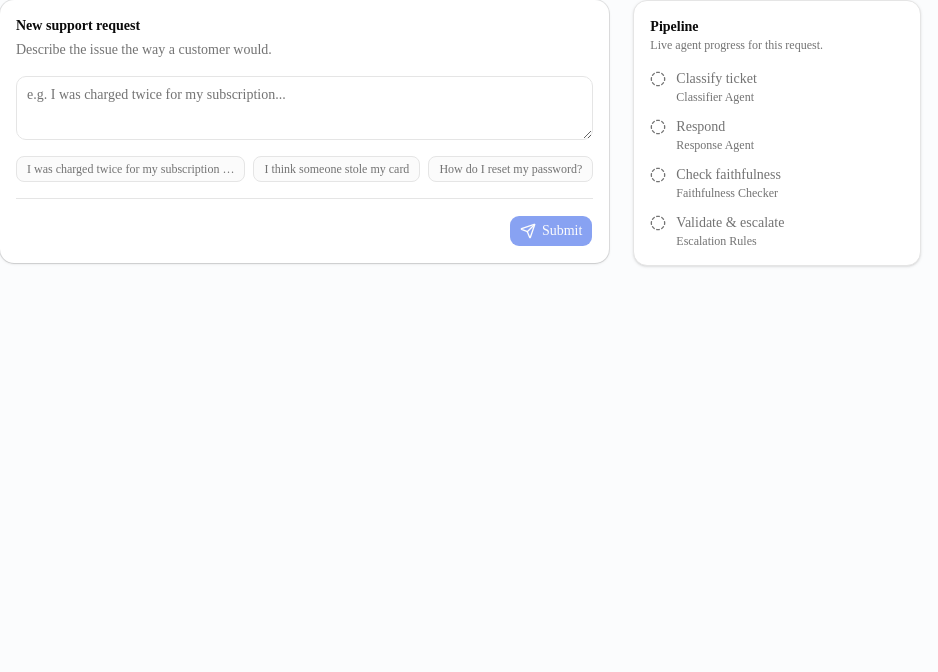
Test: TicketForm › shows unsupported claims when the answer is not faithful
Type "I was charged twice" into the text box named "Describe your issue". click: (305, 108)
box: top-left (16, 76), bottom-right (593, 140)
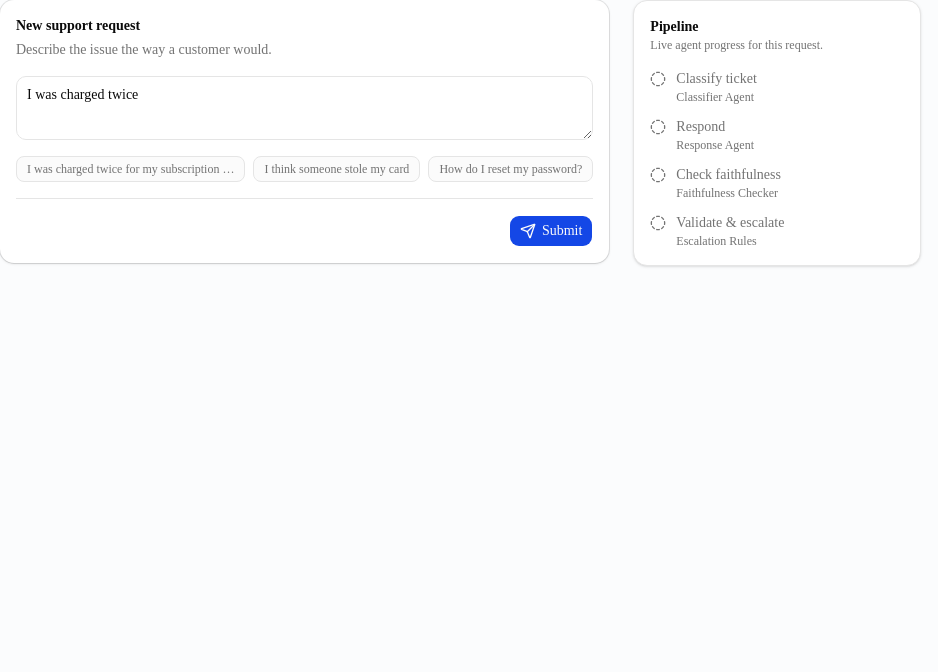
Click the button "Submit". click: (551, 231)
box: top-left (509, 215), bottom-right (593, 247)
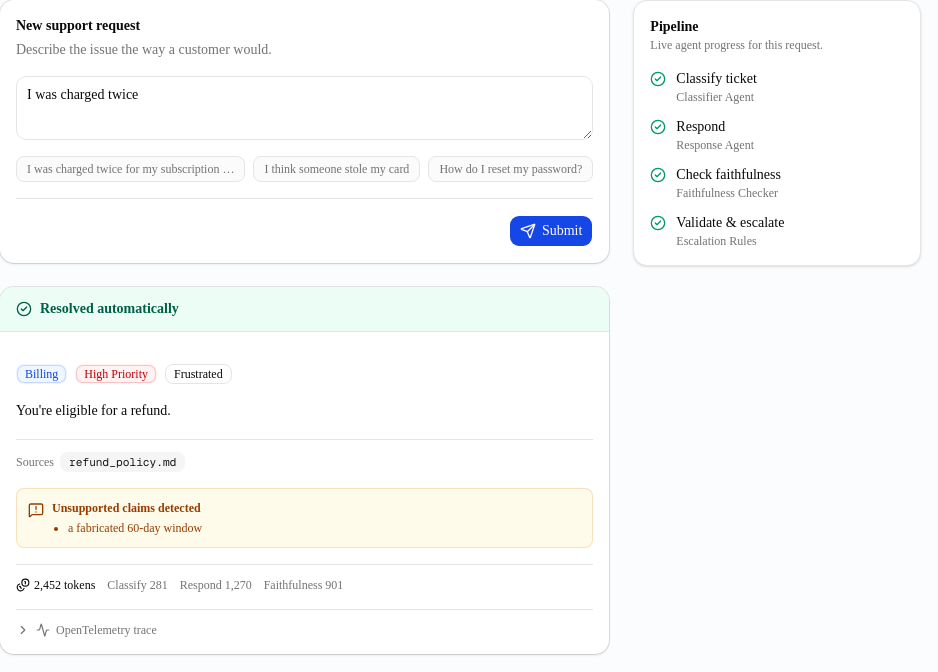
Now the list item "a fabricated 60-day window" is shown, box top-left (68, 520), bottom-right (202, 536)
